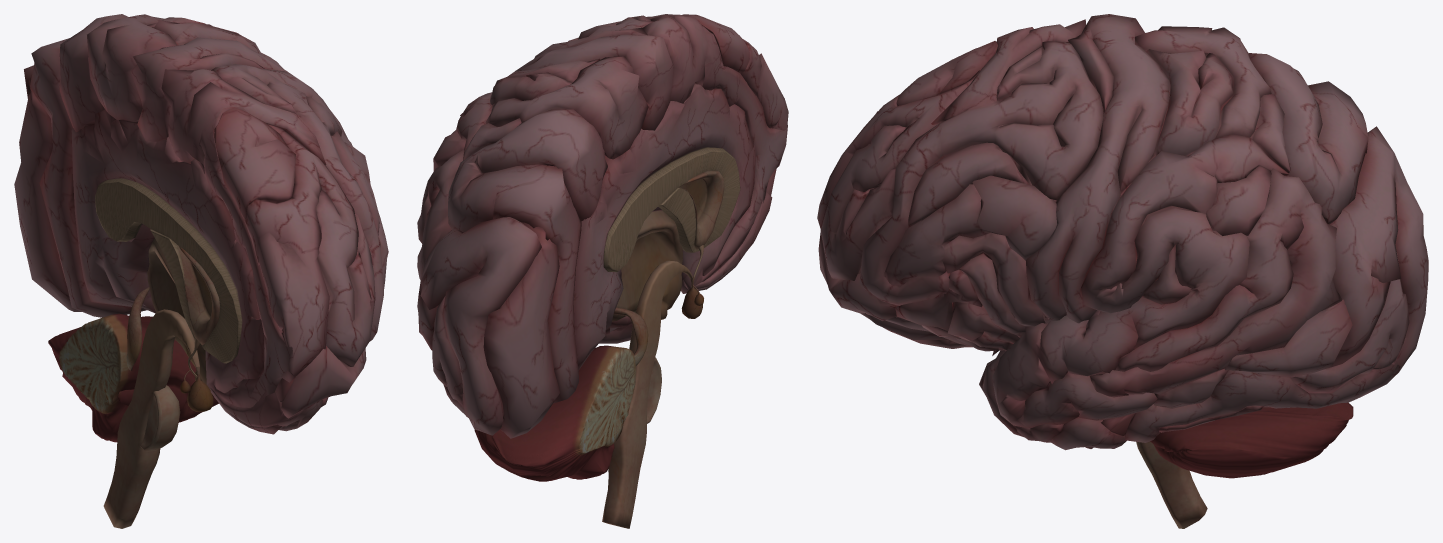
Rendered from Half Brain.gltf.
3 renders of one model, left to right at view 1: azimuth 30°, elevation 25°; view 2: azimuth 150°, elevation 25°; view 3: azimuth 270°, elevation 25°, orthographic. The views are drawn at different scales.
Visible parts, largest first — view 1: Carebrum, Nervous_Full_Cerebellum_3, Corpus_Callosum, Medulla_Oblongate, Thalamus_Part_A, Thalamus_Part_B, Pons, Hypothalamus, Carebellum_Part_A, Pituitary_Gland; view 2: Carebrum, Nervous_Full_Cerebellum_3, Medulla_Oblongate, Corpus_Callosum, Thalamus_Part_B, Thalamus_Part_A, Hypothalamus, Carebellum_Part_A, Pons, Pituitary_Gland; view 3: Carebrum, Nervous_Full_Cerebellum_3, Medulla_Oblongate.
Part boxes in pixels (left/top/right/bottom): Carebrum: left=14, top=14, right=388, bottom=434; Nervous_Full_Cerebellum_3: left=48, top=313, right=218, bottom=442; Corpus_Callosum: left=95, top=178, right=242, bottom=363; Medulla_Oblongate: left=103, top=309, right=199, bottom=528; Thalamus_Part_A: left=177, top=245, right=219, bottom=345; Thalamus_Part_B: left=147, top=238, right=209, bottom=388; Pons: left=140, top=385, right=180, bottom=451; Hypothalamus: left=150, top=229, right=200, bottom=345; Carebellum_Part_A: left=126, top=287, right=149, bottom=371; Pituitary_Gland: left=187, top=366, right=213, bottom=412; Carebrum: left=417, top=14, right=788, bottom=438; Nervous_Full_Cerebellum_3: left=474, top=345, right=635, bottom=481; Medulla_Oblongate: left=602, top=260, right=692, bottom=528; Corpus_Callosum: left=603, top=147, right=740, bottom=272; Thalamus_Part_B: left=612, top=210, right=682, bottom=321; Thalamus_Part_A: left=678, top=170, right=724, bottom=249; Hypothalamus: left=658, top=187, right=699, bottom=252; Carebellum_Part_A: left=613, top=307, right=648, bottom=365; Pons: left=647, top=357, right=661, bottom=423; Pituitary_Gland: left=681, top=279, right=702, bottom=318; Carebrum: left=817, top=14, right=1428, bottom=450; Nervous_Full_Cerebellum_3: left=1150, top=402, right=1353, bottom=478; Medulla_Oblongate: left=1136, top=441, right=1207, bottom=528.
Bounding box in the file's own units: 6.69 × 15.43 × 16.76.
1 material, 1 textured.
